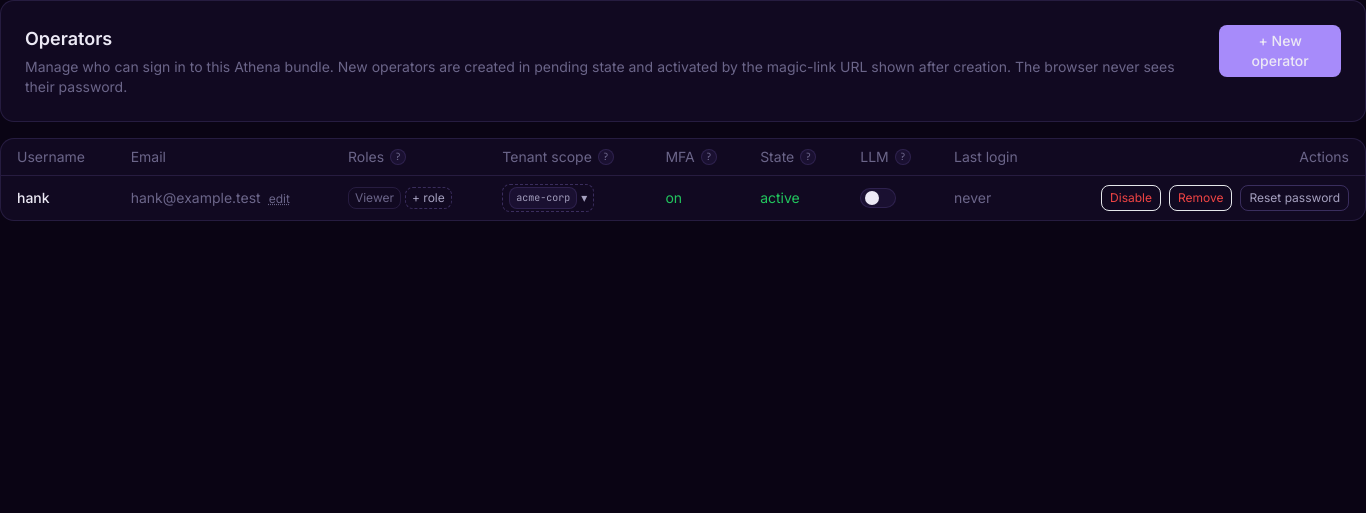
it: OperatorsTab — granting viewer from the role menu › shows the server's refusal in full, not a bare 'error'
Click the button with test id "scope-editor-hank" at (548, 198), box x1=502 y1=184 x2=594 y2=212
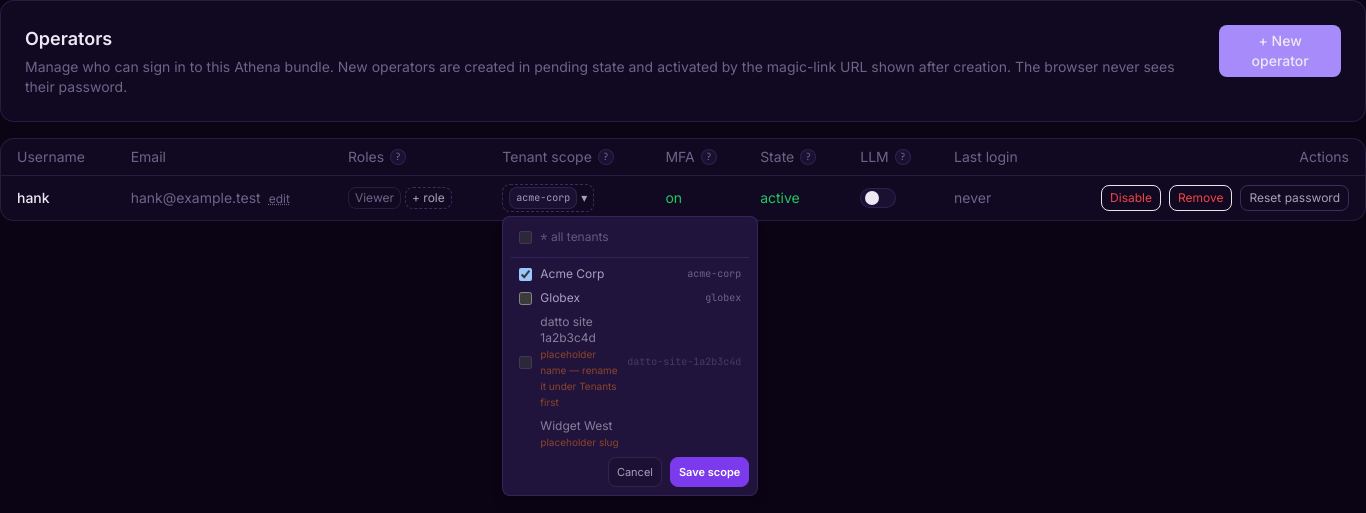
expect the checkbox named "scope globex" is shown: met
Click the checkbox labelled "Globex globex" at (526, 298), box x1=519 y1=292 x2=532 y2=304
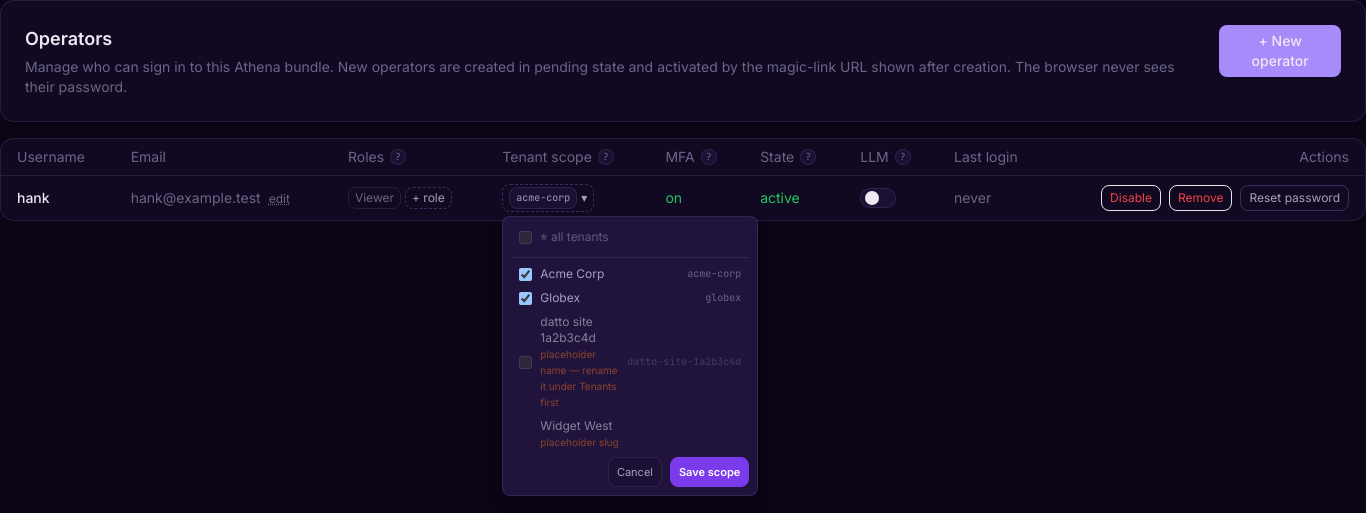
Click the button "Save scope" at (710, 472), box x1=670 y1=457 x2=749 y2=487
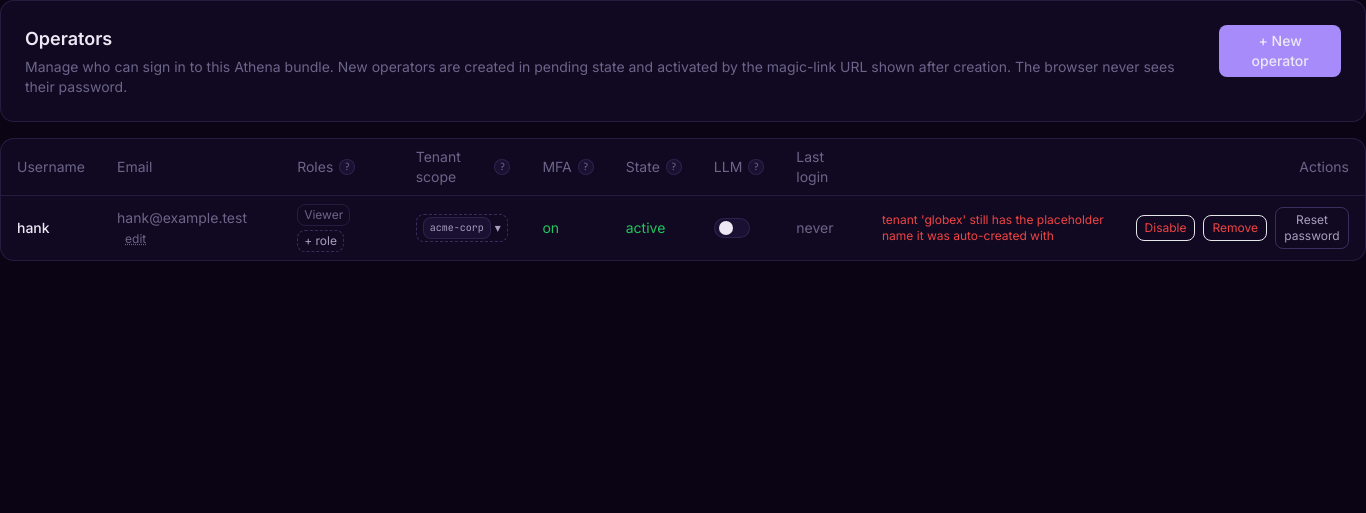
expect the message with test id "operator-error-hank" reads "tenant 'globex' still has the placeholder name it was auto-created with": met, box x1=882 y1=212 x2=1104 y2=243
